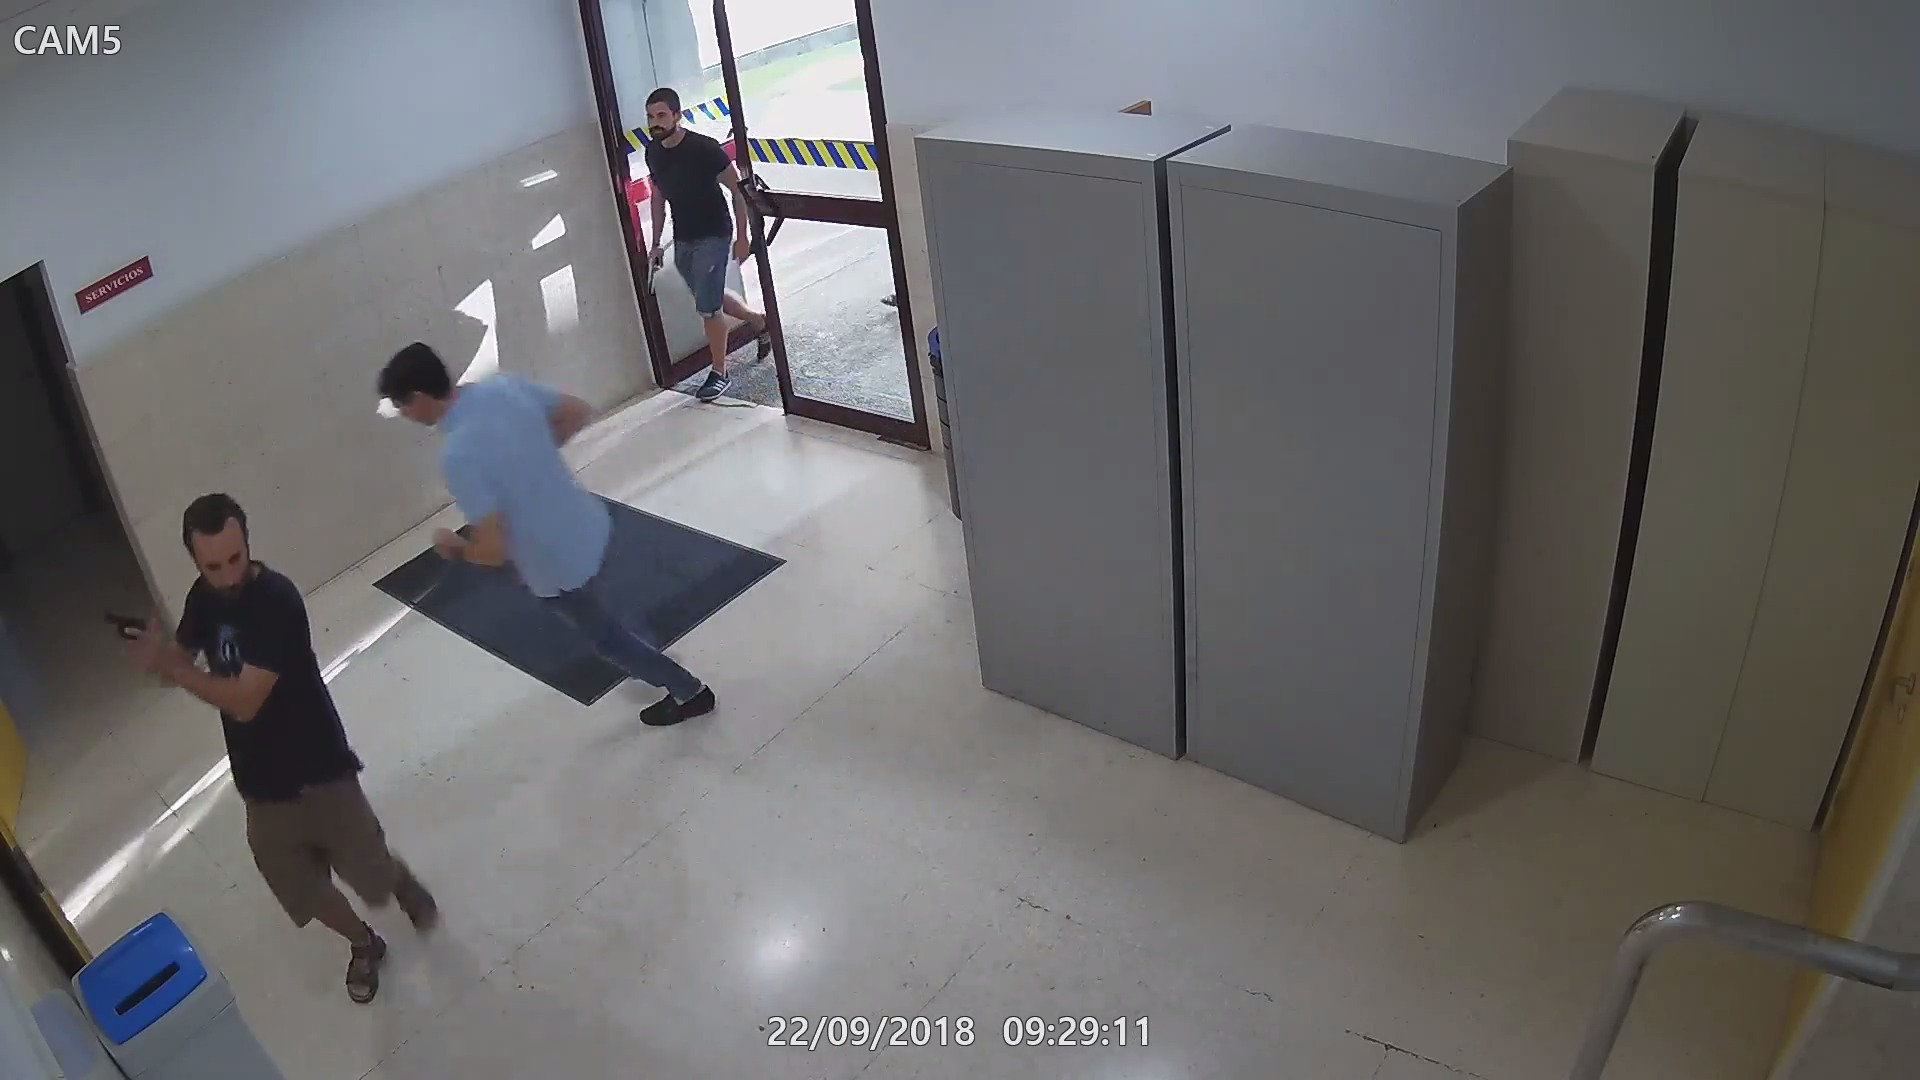Handgun: (98, 605, 165, 666), (638, 244, 669, 297)
